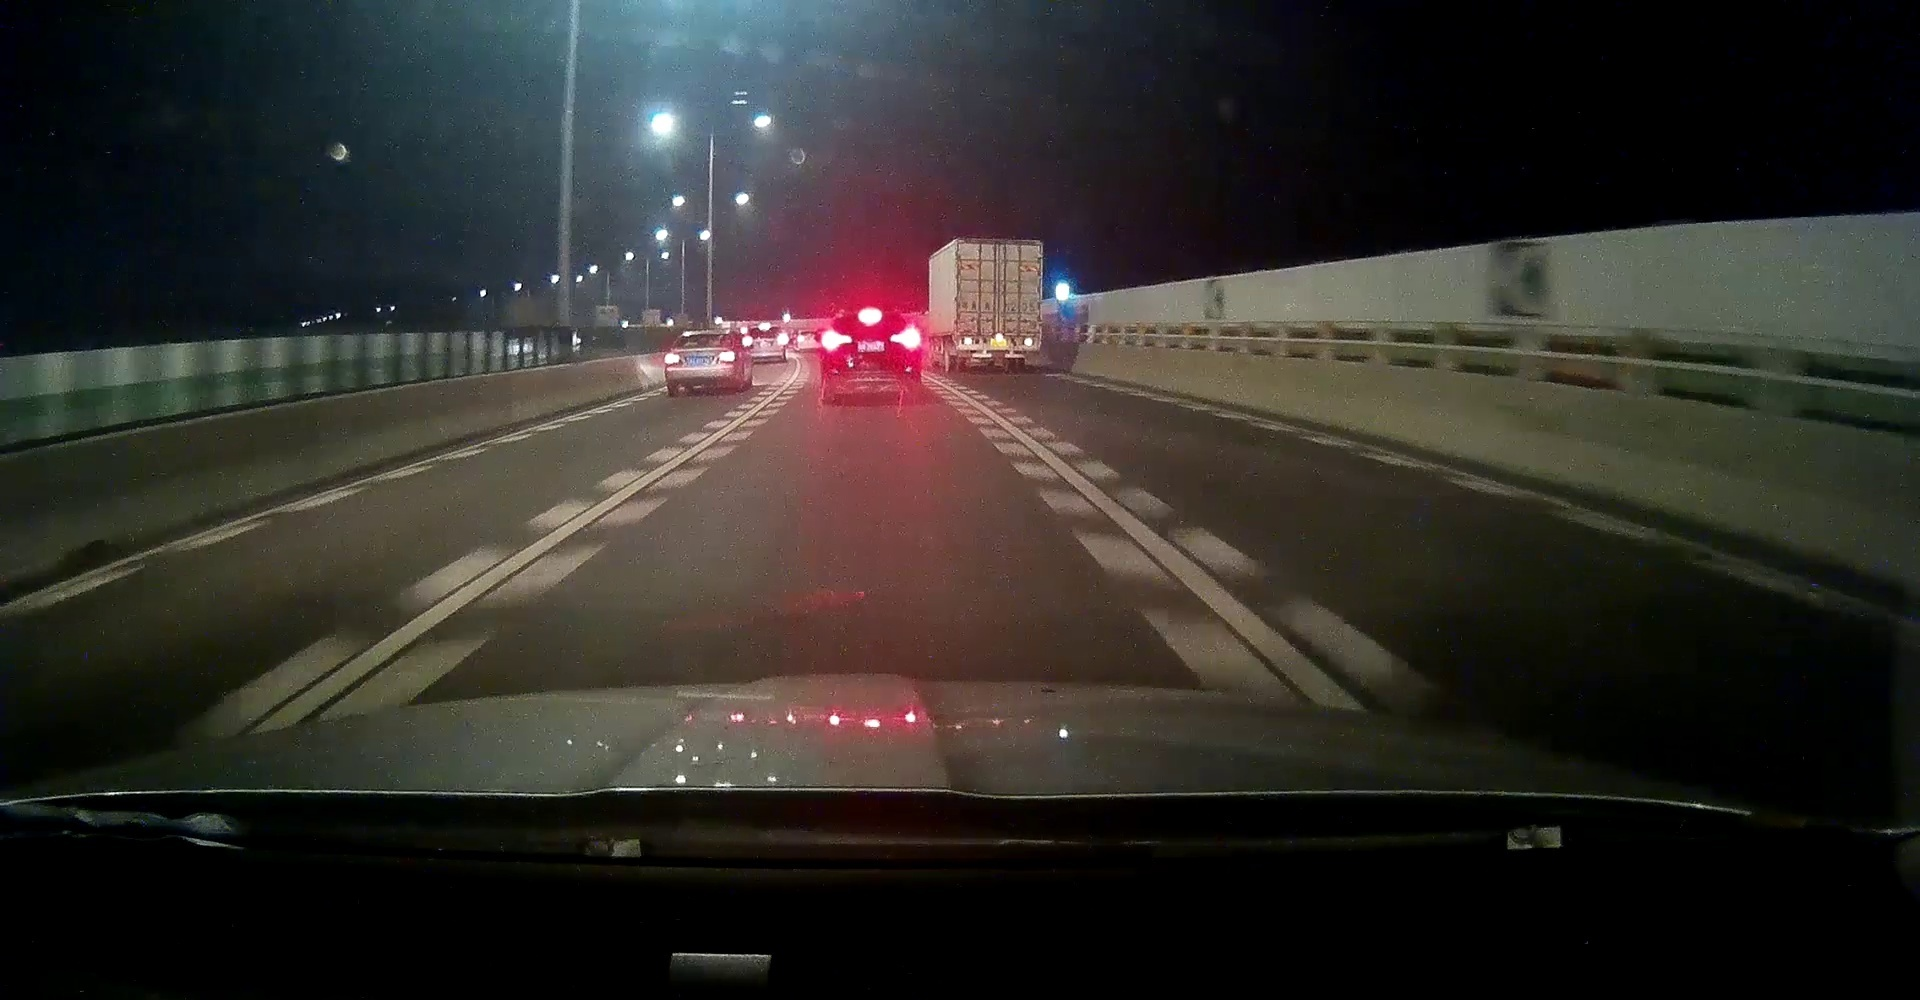L_light: (822, 332, 853, 345), (665, 355, 683, 365), (961, 338, 980, 346), (744, 341, 753, 348)
R_light: (890, 331, 919, 345), (716, 355, 737, 365), (1020, 338, 1037, 346), (776, 340, 786, 346)
T_light: (858, 313, 883, 322), (990, 244, 1008, 250), (759, 326, 771, 331), (698, 334, 712, 338)
night-brake: (822, 307, 922, 404), (743, 325, 789, 363)
night-no: (952, 237, 1043, 373), (664, 331, 738, 397)
